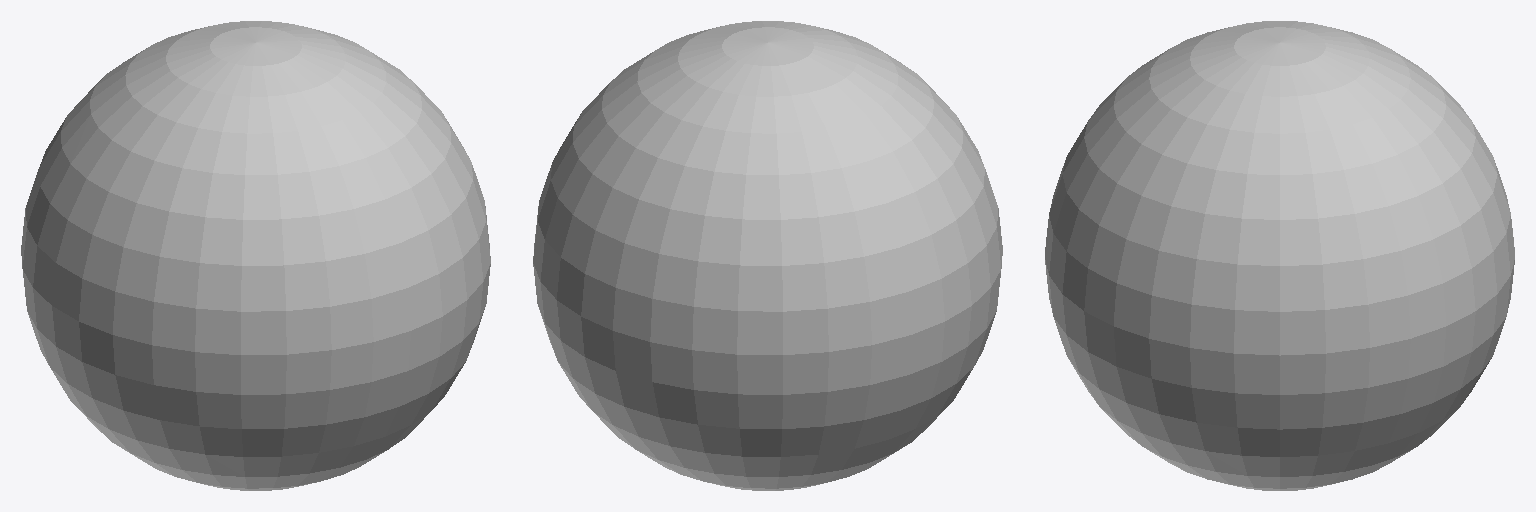
Rendered from highSphere.obj.
3 views of the same model, side by side, from view 1: azimuth 30°, elevation 25°; view 2: azimuth 150°, elevation 25°; view 3: azimuth 270°, elevation 25° (orthographic).
Visible parts, largest first — view 1: Sphere001; view 2: Sphere001; view 3: Sphere001.
Part boxes in pixels (x1,y1,x2,y2): Sphere001: (21, 21, 490, 490); Sphere001: (533, 21, 1002, 490); Sphere001: (1045, 21, 1514, 490).
Size of the model in its own units: 6.12 by 6.12 by 6.12.